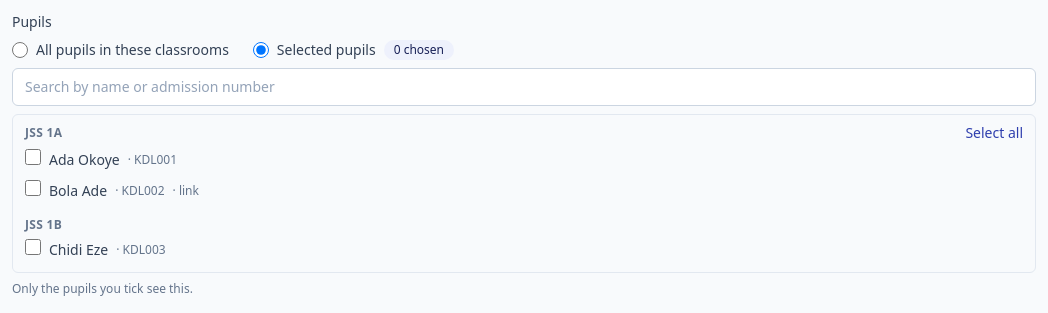
Test: AudienceField › selects a whole classroom, filtered by the search
Click the button "Select all" at [994, 133], box [965,123,1023,143]
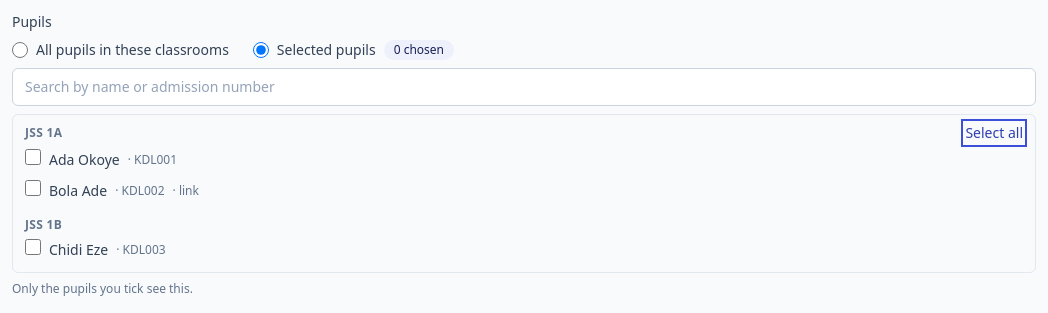
Type "KDL003" into the search field named "Search pupils" at [524, 87], box [12,68,1036,106]
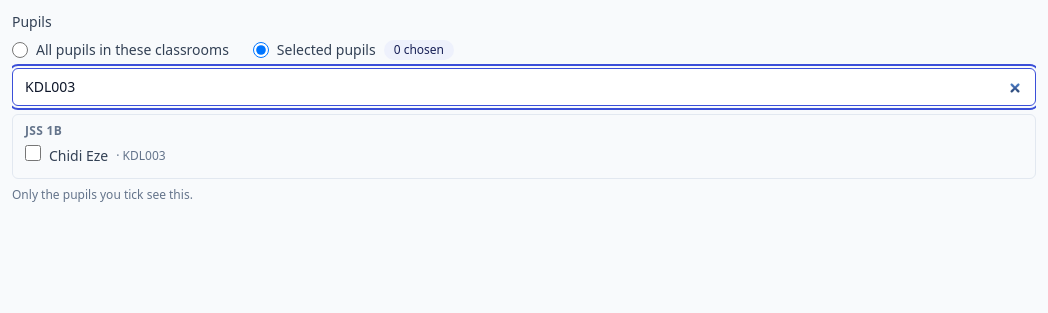
Expected: the checkbox labelled "Chidi Eze · KDL003" is shown, [25,145,41,161]
Expected: the label labelled "Ada Okoye" is gone
